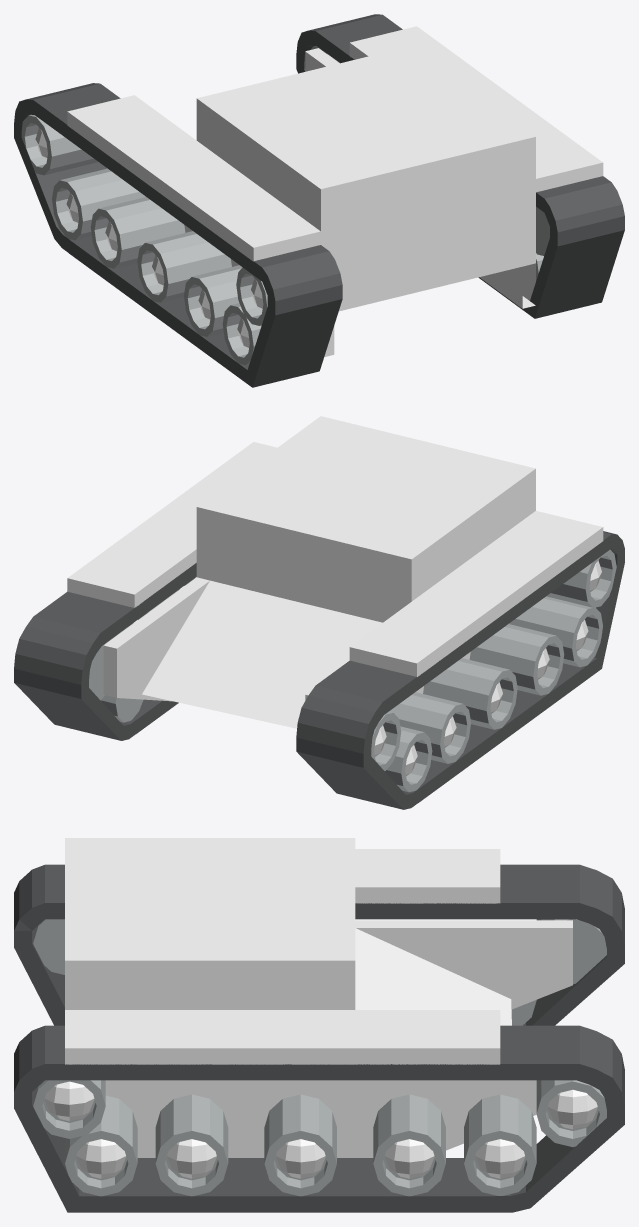
File: wasp.dae
3 views of the same model, one above another, from view 1: azimuth 30°, elevation 25°; view 2: azimuth 150°, elevation 25°; view 3: azimuth 270°, elevation 25° (orthographic). The views are drawn at different scales.
Visible parts, largest first — view 1: cube_selection, tracks_L_selection (×2), cube (×2), wheel (×8); view 2: cube_selection, tracks_L_selection (×2), cube (×2), wheel (×9); view 3: cube_selection, tracks_L_selection (×2), wheel (×9), cube (×2).
Part boxes in pixels (left/top/right/bottom): cube_selection: left=145, top=46, right=535, bottom=356; tracks_L_selection (×2): left=14, top=14, right=624, bottom=387; cube (×2): left=67, top=26, right=603, bottom=261; wheel (×8): left=22, top=114, right=549, bottom=365; cube_selection: left=103, top=416, right=535, bottom=728; tracks_L_selection (×2): left=14, top=531, right=624, bottom=809; cube (×2): left=67, top=442, right=603, bottom=676; wheel (×9): left=89, top=549, right=616, bottom=792; cube_selection: left=65, top=838, right=572, bottom=1157; tracks_L_selection (×2): left=14, top=864, right=624, bottom=1212; wheel (×9): left=33, top=919, right=606, bottom=1196; cube (×2): left=65, top=849, right=500, bottom=1064.
Bounding box in the file's own units: 1.62 × 0.8137 × 2.11.
Materials: 1 (1 with a texture image).
